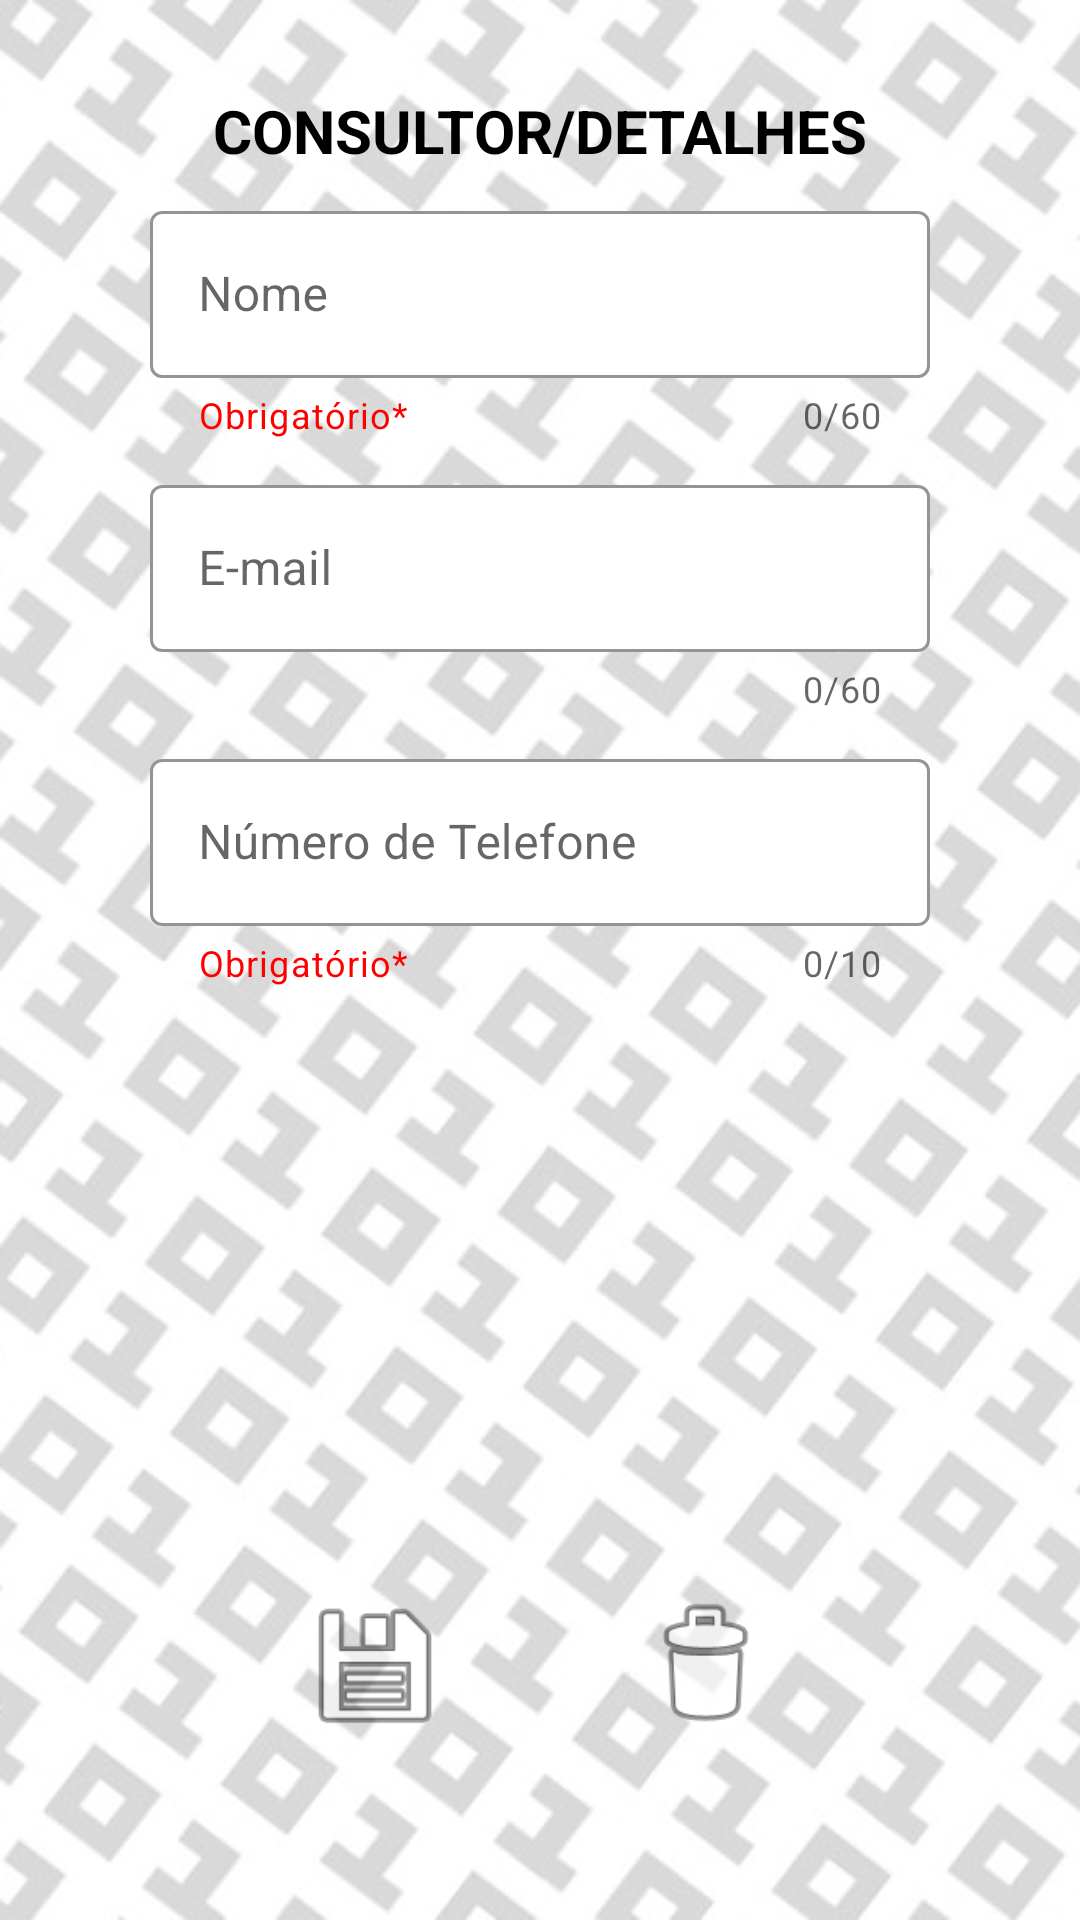

Named icons in this screenshot (1080px×1920px) and their centers, (x=x, y=y):
delete: (x=705, y=1665)
save: (x=375, y=1665)
